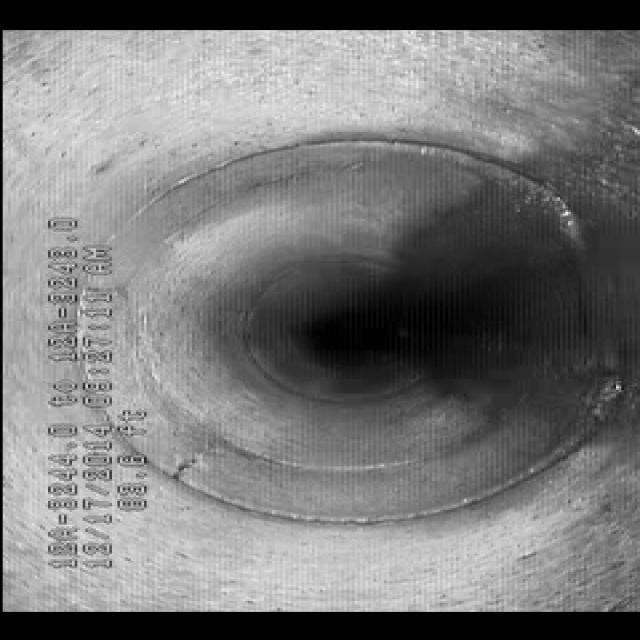Fracture: (152, 431, 246, 482)
